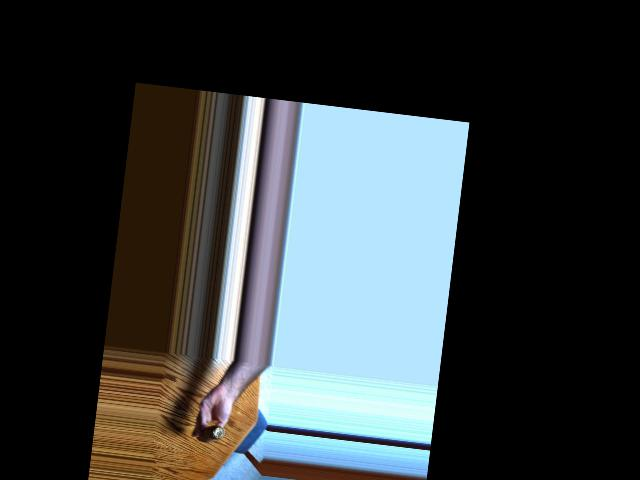sweet_potato: (195, 418, 229, 445)
